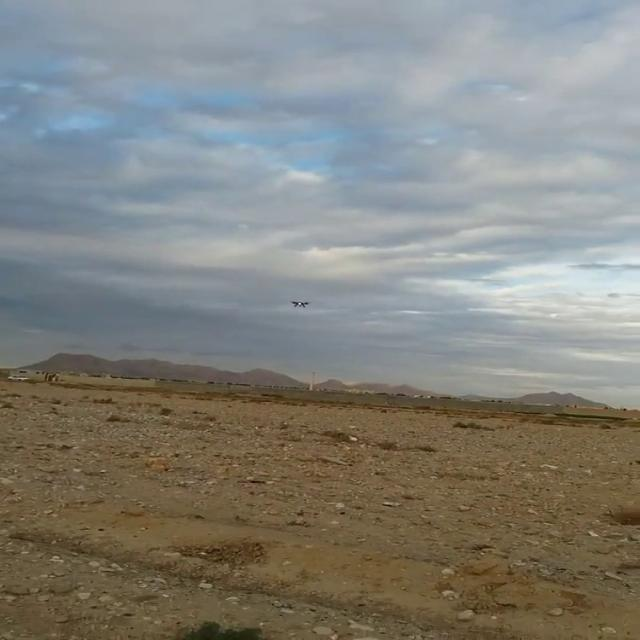drone: (288, 295, 313, 310)
